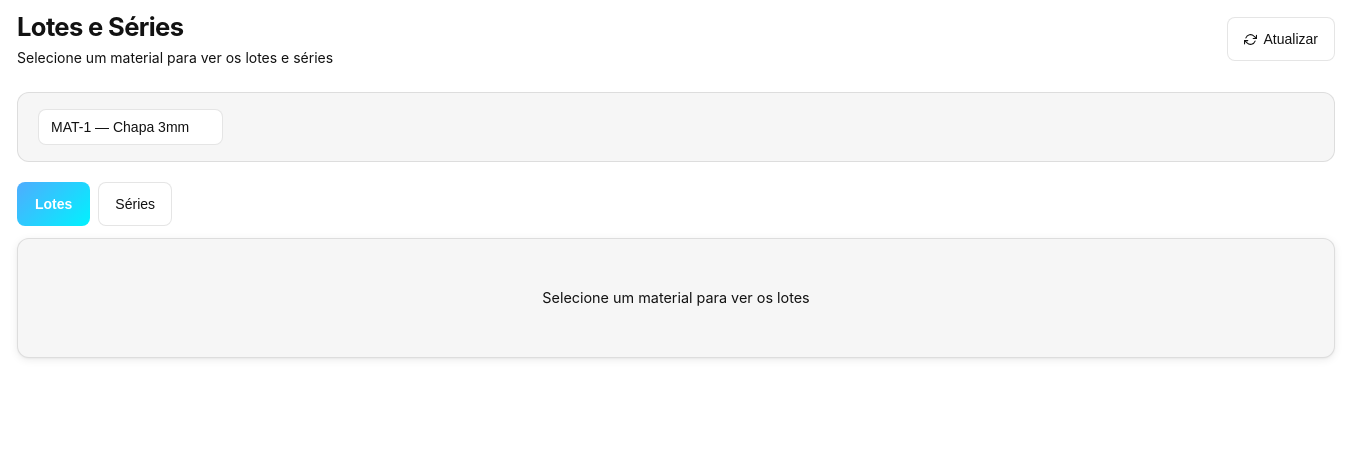
Scenario: LotesAlmoxarifado › lote com certificado ja anexado oferece um link para abrir o arquivo ASSINADO
Select "MAT-1 — Chapa 3mm" in the dropdown with class "almox-select": {"x": 130, "y": 127} [38,109,223,145]
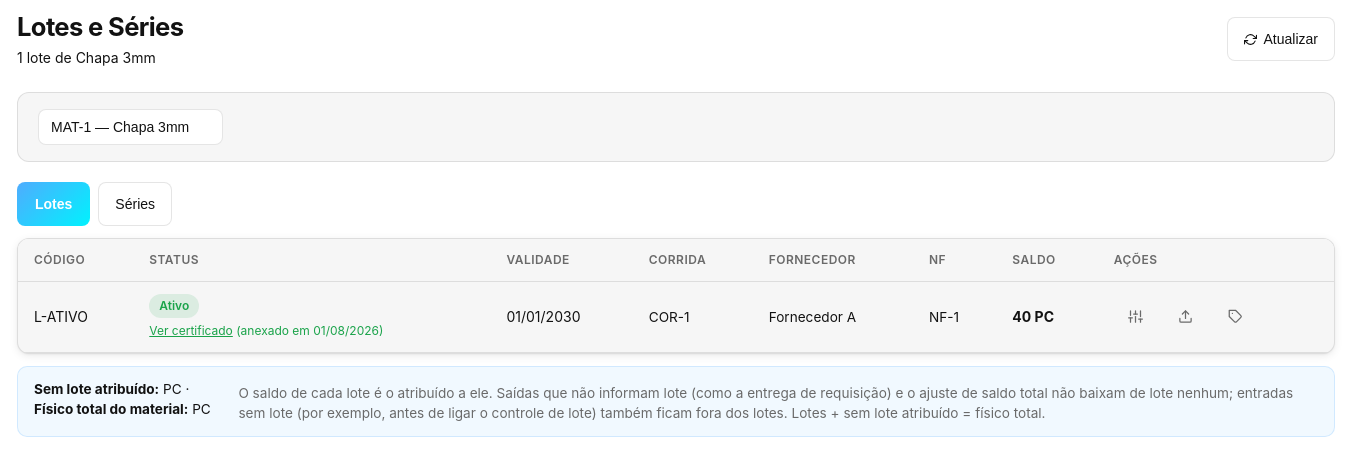
Result: the row that starts with "L-ATIVO" shows "anexado em" at [233,323,383,338]
Result: the link "Ver certificado" is shown at [149,323,233,338]
